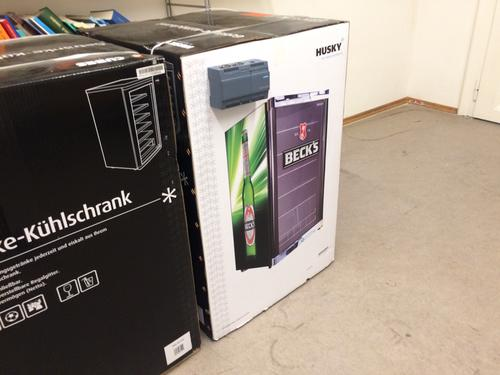iot2000: (207, 59, 271, 112)
